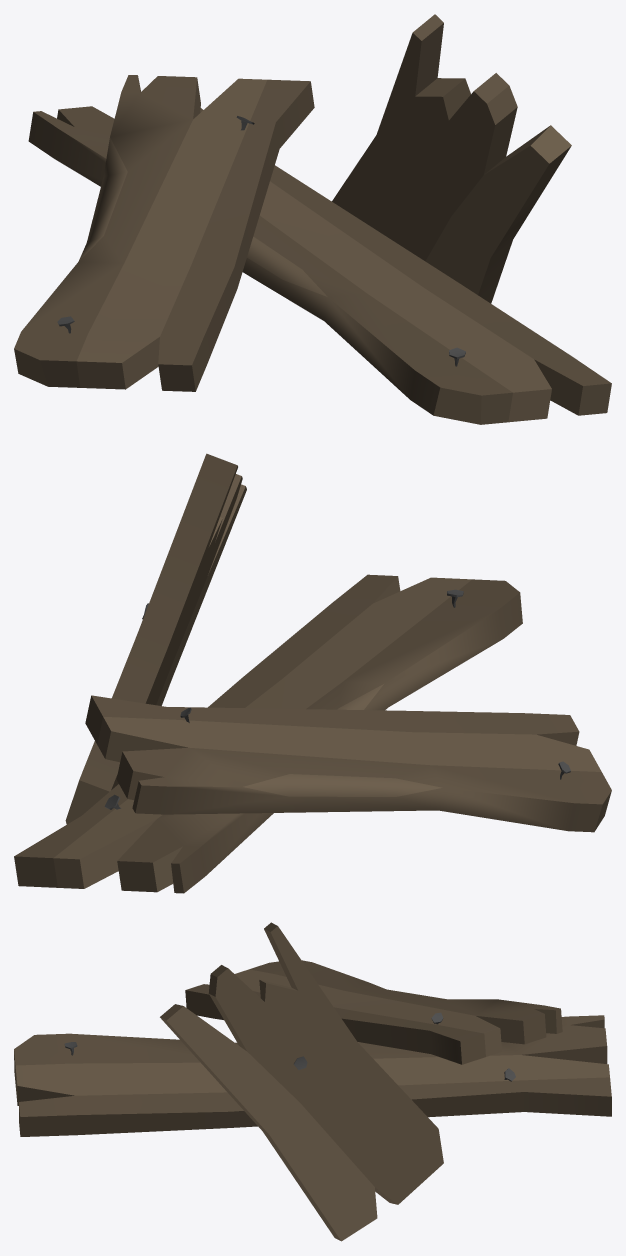
The model's file is Zwerfhout_4.fbx.
The picture shows the model from 3 angles, top to bottom: view 1: azimuth 30°, elevation 25°; view 2: azimuth 150°, elevation 25°; view 3: azimuth 270°, elevation 25°; orthographic projection. The views are drawn at different scales.
Parts seen in each view (by area): view 1: Zwerfhout_4; view 2: Zwerfhout_4; view 3: Zwerfhout_4.
Part boxes in pixels (<box>): Zwerfhout_4: <box>14,14,611,424</box>; Zwerfhout_4: <box>14,453,611,893</box>; Zwerfhout_4: <box>14,922,611,1241</box>.
Bounding box in the file's own units: 9.18 × 6.72 × 12.57.
